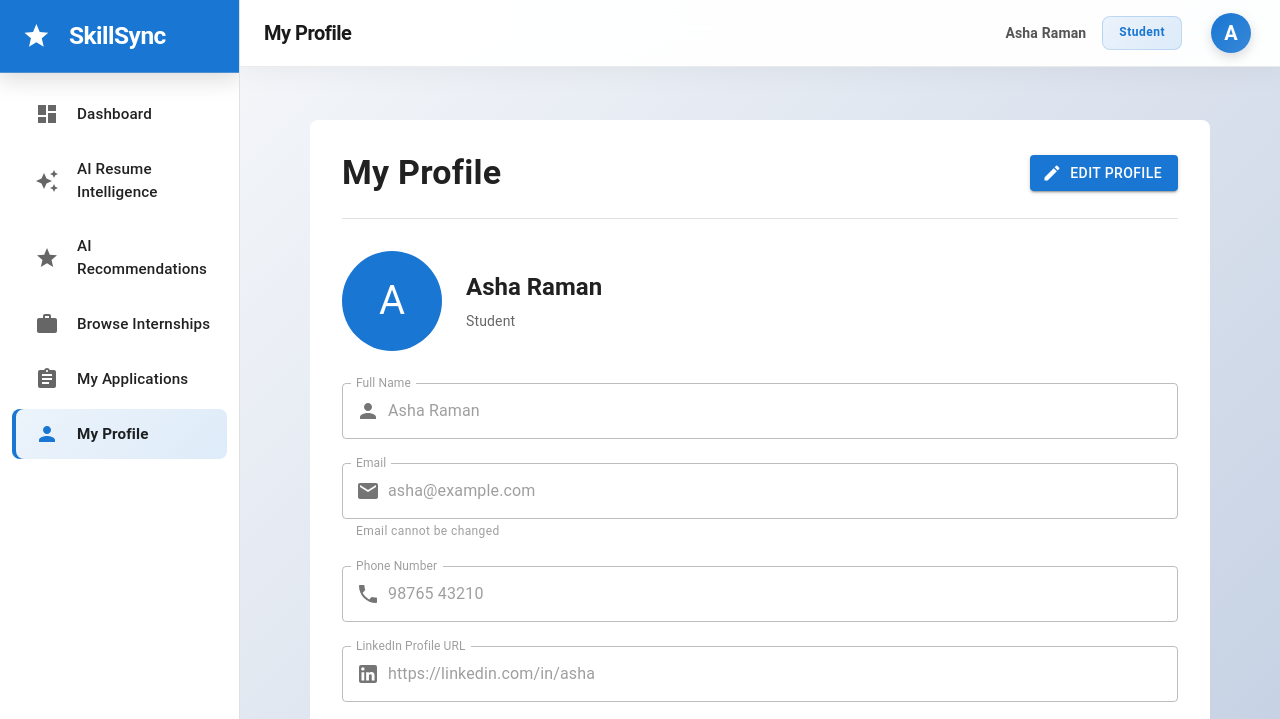
Scenario: shows the profile read-only with the email locked
Expected: the field showing "98765 43210" is disabled, [388,566,1178,622]
Expected: the field labelled "LinkedIn Profile URL" holds "https://linkedin.com/in/asha", [388,646,1178,702]
Click the button "Edit Profile" at (1104, 173), box [1030,155,1178,191]
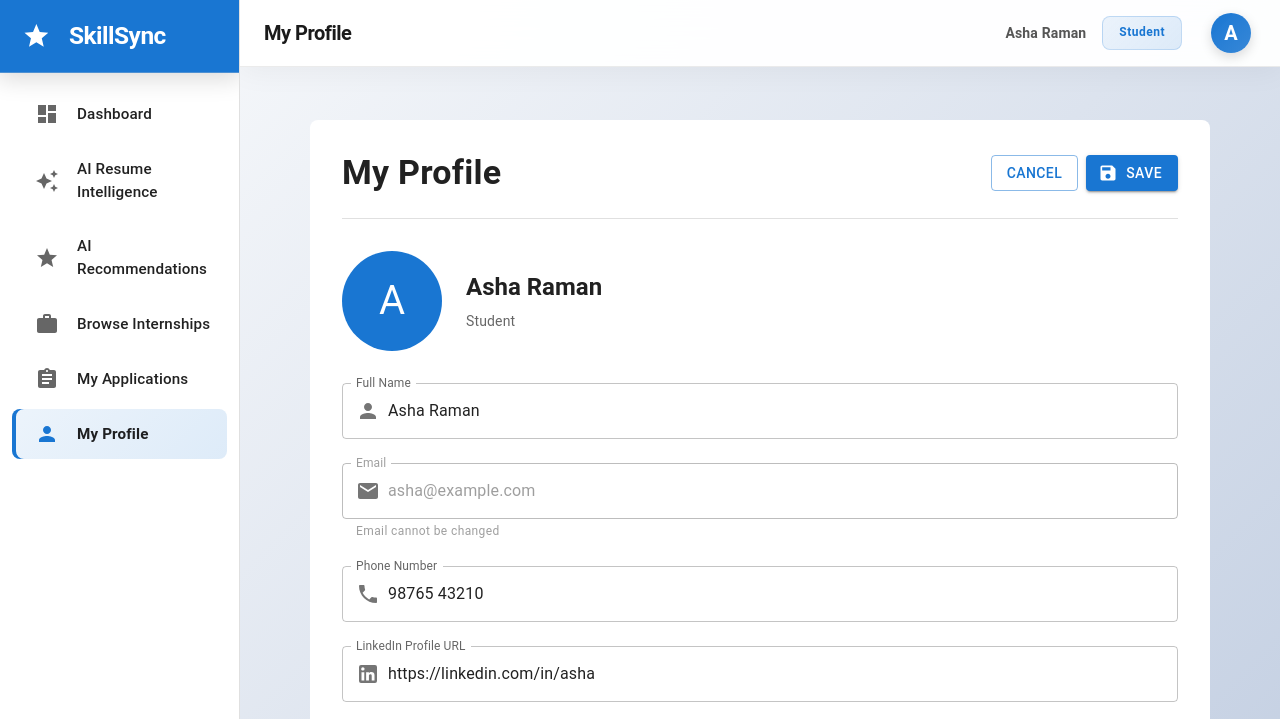
Expected: the field labelled "Email" is disabled, [388,463,1178,519]
Now the field labelled "Phone Number" is enabled, box [388,566,1178,622]
